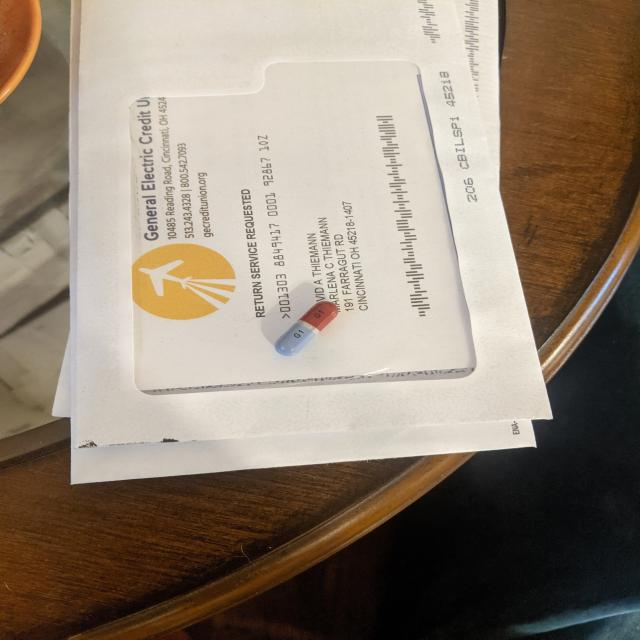non-organic waste: (274, 300, 339, 356)
